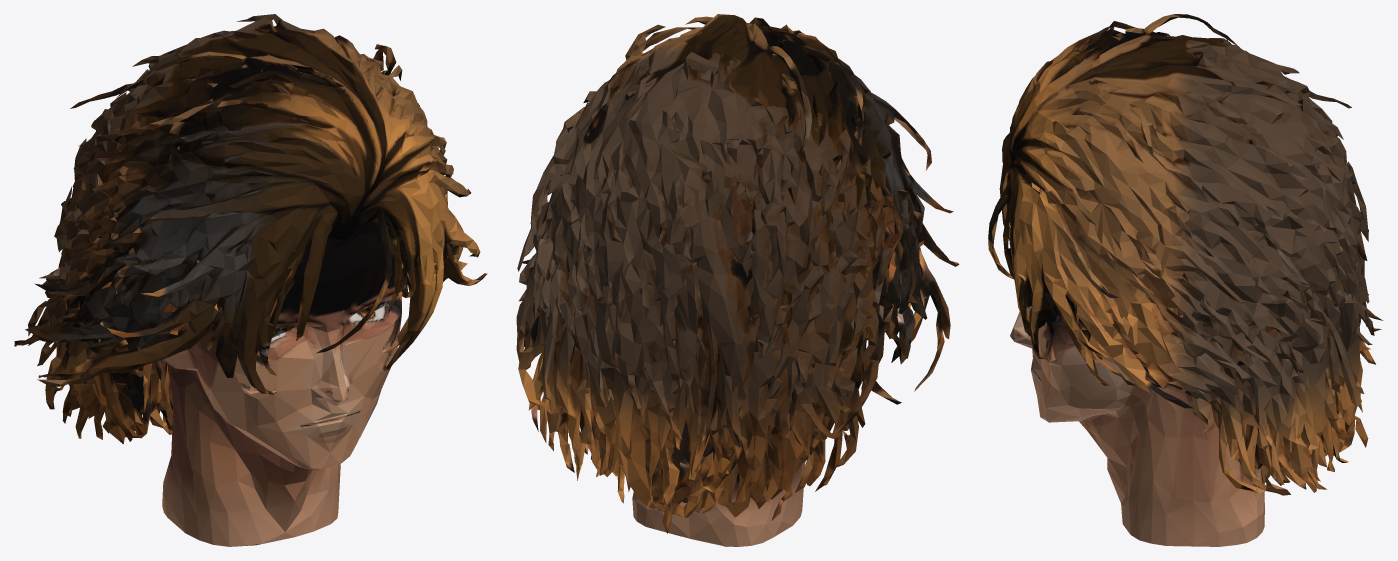
The model's file is side_gusai_repaired_atlas.glb.
The picture shows the model from 3 angles, left to right: view 1: azimuth 30°, elevation 25°; view 2: azimuth 150°, elevation 25°; view 3: azimuth 270°, elevation 25°; orthographic projection. The views are drawn at different scales.
Parts seen in each view (by area): view 1: temp_mesh.ply; view 2: temp_mesh.ply; view 3: temp_mesh.ply.
Part boxes in pixels (x1=…): temp_mesh.ply: x1=14, y1=14, x2=487, y2=546; temp_mesh.ply: x1=516, y1=14, x2=959, y2=546; temp_mesh.ply: x1=988, y1=14, x2=1383, y2=546.
Bounding box in the file's own units: 1.78 × 1.97 × 1.51.
Materials: 1 (1 with a texture image).
